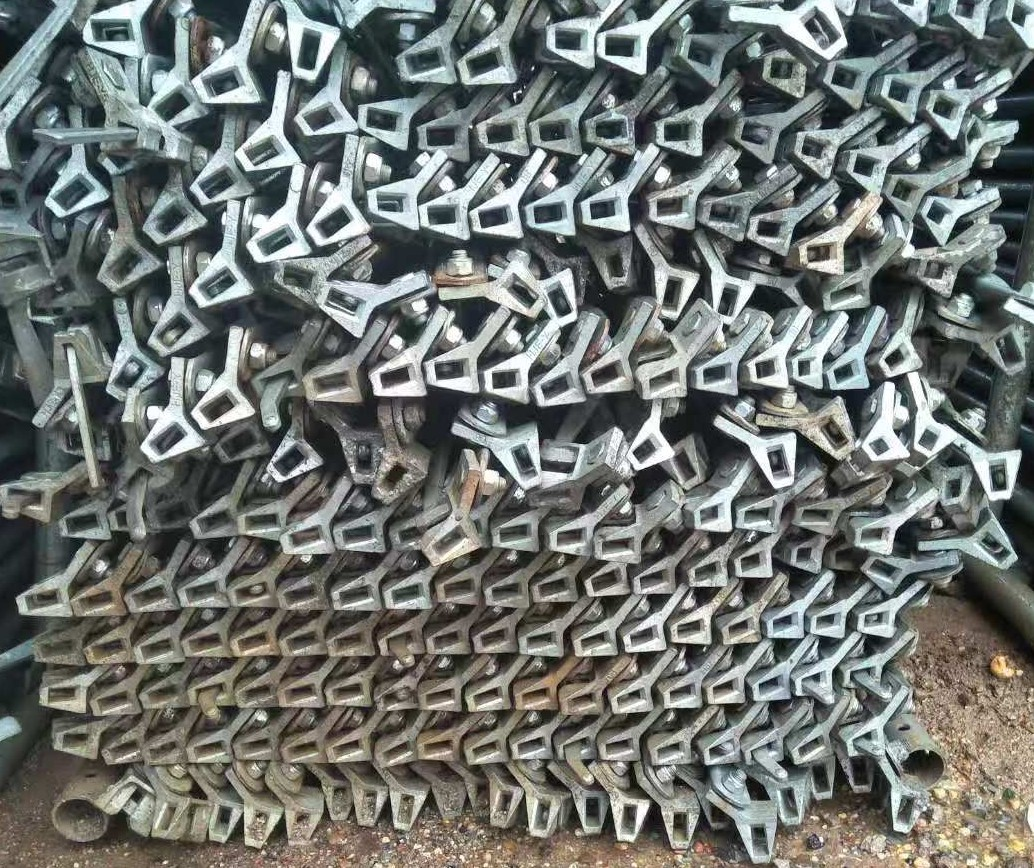circle_steel: (892, 739, 950, 791)
sigma_steel: (277, 18, 342, 78), (95, 237, 161, 294), (189, 55, 263, 105), (242, 212, 313, 263), (78, 10, 146, 62), (450, 34, 518, 86), (304, 190, 372, 241), (307, 284, 370, 339), (350, 99, 416, 151), (492, 430, 549, 490), (188, 380, 255, 431), (185, 257, 253, 307), (137, 414, 207, 462), (745, 430, 799, 492), (140, 193, 209, 241), (43, 171, 109, 221), (787, 3, 848, 57), (805, 397, 857, 460), (391, 38, 460, 85), (413, 190, 471, 245), (410, 115, 475, 164), (362, 180, 422, 232), (524, 105, 585, 156), (969, 445, 1021, 504), (185, 160, 254, 204), (464, 194, 528, 241), (962, 517, 1018, 570), (669, 34, 723, 88), (649, 266, 702, 321), (373, 453, 429, 505), (299, 360, 365, 404), (519, 190, 579, 238), (623, 421, 676, 475), (579, 103, 636, 153), (471, 111, 532, 157), (526, 362, 587, 408), (288, 94, 358, 134), (489, 269, 546, 318), (418, 349, 480, 394), (234, 132, 305, 171), (422, 516, 482, 562), (597, 23, 649, 76), (575, 187, 633, 234), (267, 439, 326, 485), (541, 20, 596, 69), (534, 268, 583, 323), (589, 236, 638, 291), (786, 128, 839, 178), (639, 187, 699, 231), (647, 112, 704, 158), (364, 358, 429, 398), (882, 69, 927, 126), (707, 274, 757, 325), (920, 91, 972, 139), (578, 351, 636, 394), (664, 438, 708, 494), (821, 59, 870, 109), (697, 195, 748, 243), (477, 358, 531, 403), (840, 146, 890, 194), (911, 195, 958, 246), (657, 796, 699, 852), (980, 326, 1026, 377), (906, 416, 957, 462), (212, 427, 273, 465), (632, 357, 687, 399), (761, 49, 807, 99), (487, 512, 541, 554), (764, 777, 809, 827), (14, 580, 73, 618), (840, 516, 894, 557), (884, 172, 930, 220), (813, 276, 876, 311), (735, 814, 778, 865), (270, 259, 322, 301), (63, 583, 127, 617), (685, 357, 739, 397), (144, 494, 204, 530), (862, 422, 911, 466), (794, 232, 845, 274), (749, 209, 794, 256), (334, 515, 387, 554), (130, 626, 183, 665), (120, 575, 179, 610), (188, 503, 245, 539), (376, 575, 433, 611), (328, 575, 383, 612), (862, 552, 908, 596), (234, 503, 290, 539), (820, 275, 874, 312), (734, 495, 785, 534), (58, 506, 114, 541), (885, 786, 925, 835), (912, 254, 957, 297), (689, 494, 735, 536), (276, 576, 331, 611), (226, 621, 278, 658), (546, 517, 594, 557), (612, 796, 651, 845), (660, 612, 713, 648), (32, 631, 85, 667), (744, 348, 789, 390), (276, 623, 330, 658), (35, 681, 89, 716), (322, 675, 376, 710), (596, 526, 643, 566), (181, 620, 231, 657), (876, 335, 922, 375), (931, 466, 971, 512), (468, 623, 522, 657), (825, 356, 873, 394), (205, 797, 243, 845), (459, 679, 513, 712), (149, 794, 186, 842), (82, 630, 131, 666), (513, 678, 562, 714), (230, 730, 285, 762), (326, 622, 373, 659), (276, 675, 327, 709), (179, 575, 231, 608), (507, 727, 556, 762), (795, 500, 840, 538), (431, 572, 484, 604), (758, 605, 806, 640), (802, 759, 840, 803), (520, 623, 566, 659), (423, 623, 473, 656), (573, 624, 621, 658), (606, 683, 654, 717), (525, 573, 579, 603), (136, 681, 188, 712), (55, 727, 101, 762), (281, 731, 328, 765), (480, 578, 533, 608), (91, 681, 139, 714), (415, 730, 463, 763), (326, 732, 374, 765), (642, 734, 691, 766), (631, 561, 677, 595), (97, 730, 144, 763), (785, 729, 835, 760), (572, 791, 607, 834), (681, 557, 729, 588), (234, 677, 282, 708), (786, 353, 825, 391), (727, 546, 773, 578), (463, 731, 505, 766), (622, 617, 666, 650), (560, 684, 604, 717), (806, 604, 846, 640), (717, 613, 762, 645), (657, 679, 705, 709), (139, 737, 187, 767), (374, 734, 416, 768), (599, 730, 642, 763), (586, 565, 630, 597), (842, 755, 878, 794), (422, 680, 463, 714), (186, 735, 232, 765), (784, 541, 824, 574), (707, 673, 748, 704), (750, 671, 791, 700), (1007, 1, 1034, 45)
sigma_steel_blocked: (144, 308, 213, 359), (104, 351, 165, 403), (333, 431, 382, 482), (731, 113, 779, 164), (1, 480, 52, 528), (100, 112, 158, 154), (519, 786, 563, 838), (228, 570, 283, 609), (384, 785, 427, 833), (367, 679, 422, 715), (279, 522, 335, 557), (485, 779, 523, 830), (346, 782, 385, 830), (244, 803, 282, 852), (373, 623, 424, 657), (285, 804, 322, 850), (694, 732, 740, 768), (428, 781, 466, 824), (317, 783, 355, 826), (548, 729, 595, 762), (185, 678, 235, 708), (837, 726, 885, 755), (740, 731, 782, 764), (838, 659, 884, 689), (856, 603, 894, 639), (790, 667, 835, 696)
